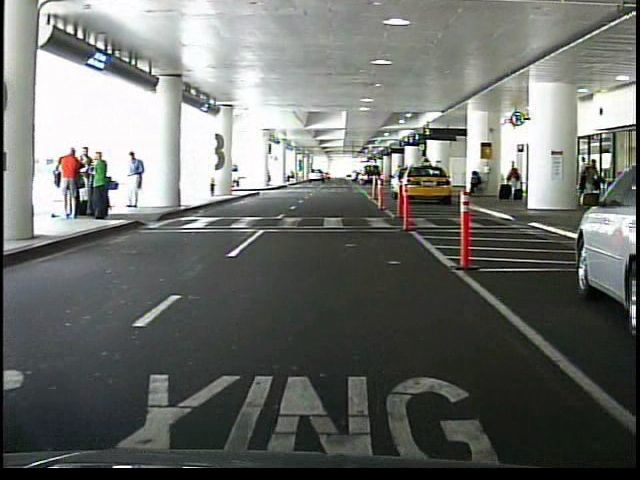person: (60, 143, 84, 219), (92, 152, 112, 223), (125, 151, 147, 212), (580, 153, 603, 211), (82, 146, 97, 211), (506, 160, 522, 203), (466, 170, 483, 198)
